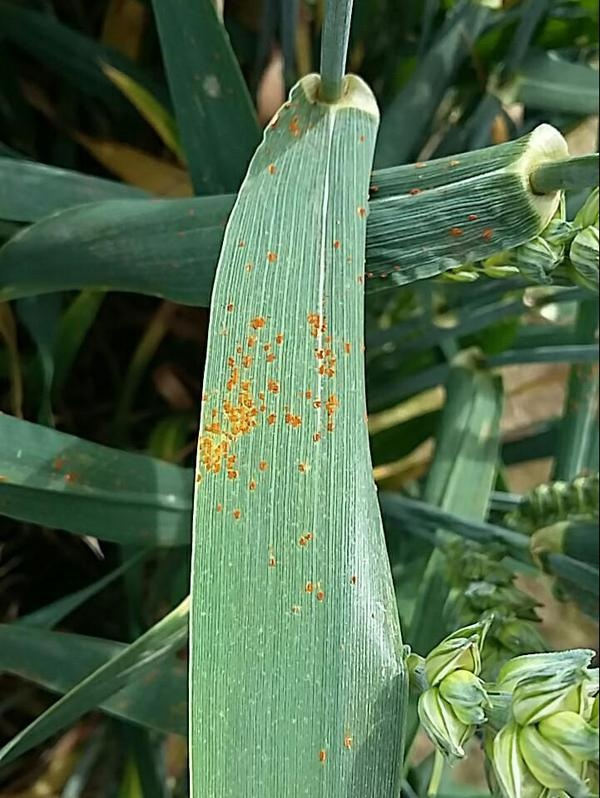Leaf Rust: (192, 270, 386, 569)
